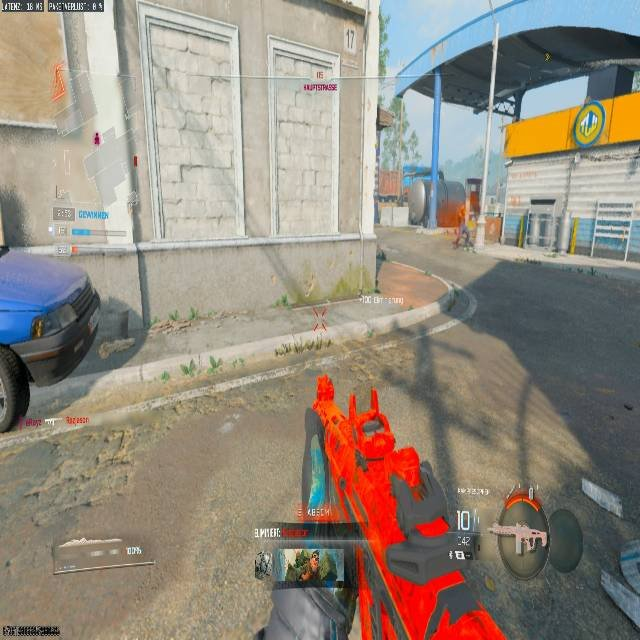player: (452, 205, 472, 248)
